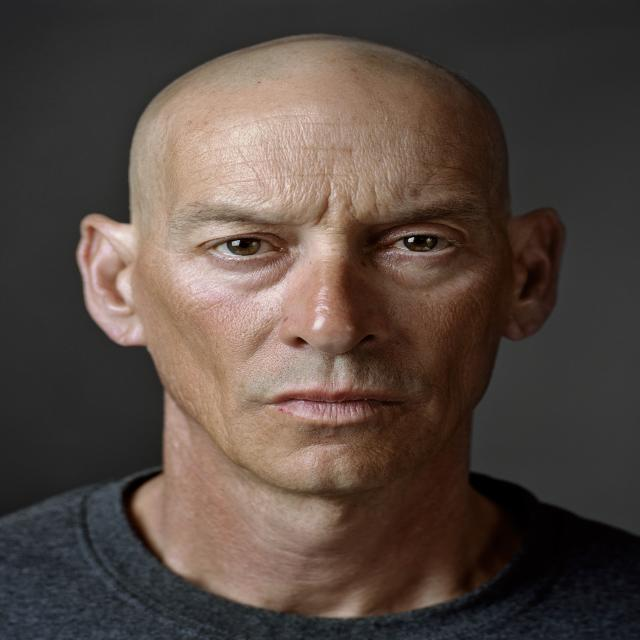front: (146, 168, 512, 465)
